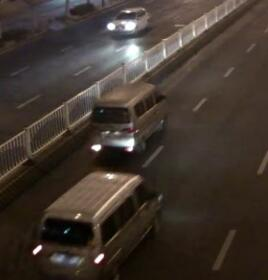car: (25, 169, 163, 269), (89, 81, 170, 152), (106, 5, 153, 35)
